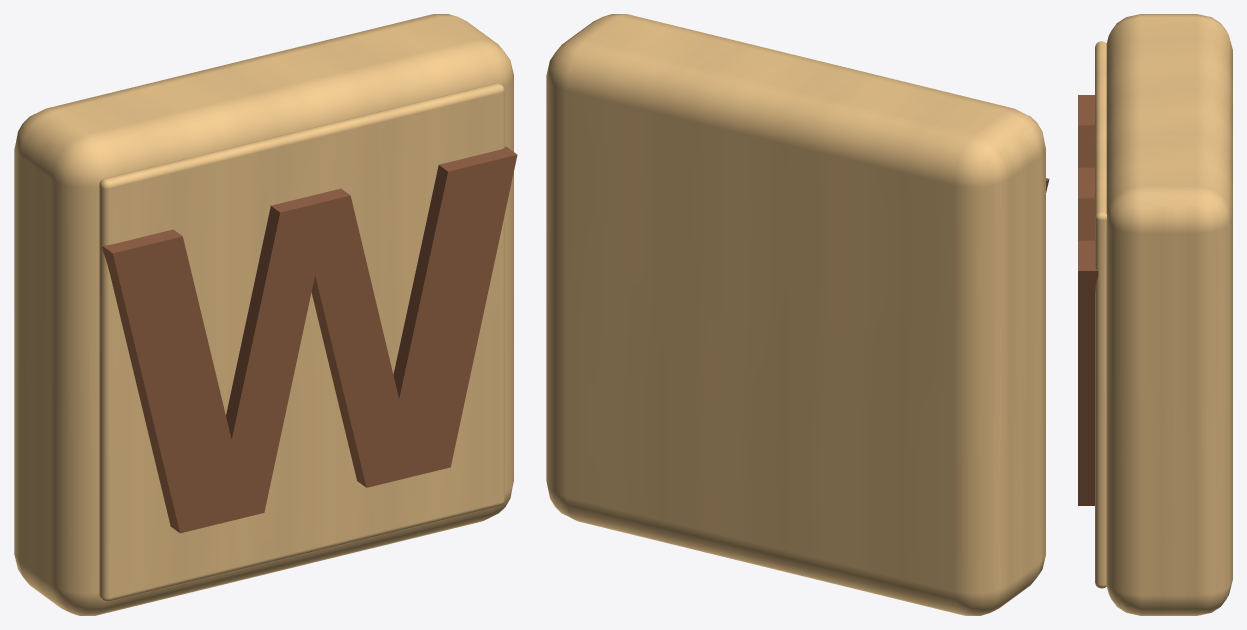
3 renders of one model, left to right at view 1: azimuth 30°, elevation 25°; view 2: azimuth 150°, elevation 25°; view 3: azimuth 270°, elevation 25°, orthographic. The views are drawn at different scales.
Parts seen in each view (by area): view 1: Tile_W; view 2: Tile_W; view 3: Tile_W.
Boxes of the visible parts, x1,y1,x2,y2 form: Tile_W: (14, 14, 517, 615); Tile_W: (546, 14, 1049, 615); Tile_W: (1078, 14, 1232, 615).
Bounding box in the file's own units: 0.21 × 0.21 × 0.069.
2 materials, 1 textured.
